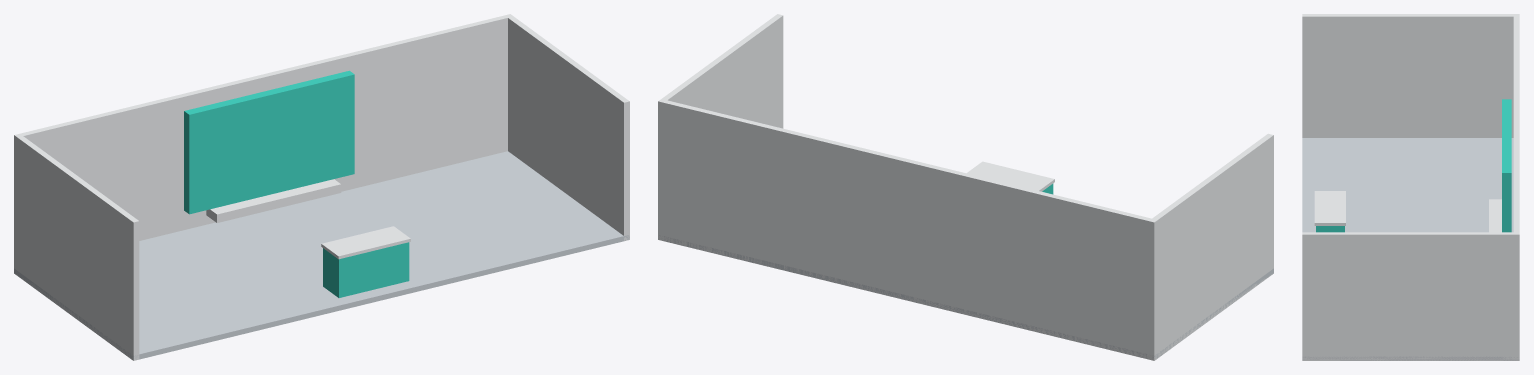
3 views of the same model, side by side, from view 1: azimuth 30°, elevation 25°; view 2: azimuth 150°, elevation 25°; view 3: azimuth 270°, elevation 25° (orthographic). The views are drawn at different scales.
Parts seen in each view (by area): view 1: Exhibition Booth Concept; view 2: Exhibition Booth Concept; view 3: Exhibition Booth Concept.
Part boxes in pixels (x1,y1,x2,y2): Exhibition Booth Concept: (14, 14, 629, 360); Exhibition Booth Concept: (658, 14, 1273, 360); Exhibition Booth Concept: (1302, 14, 1519, 360).
Size of the model in its own units: 12 by 3.2 by 5.
